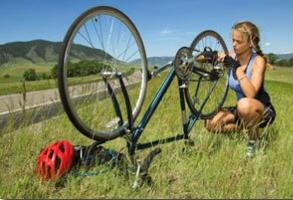person: (192, 20, 278, 157)
